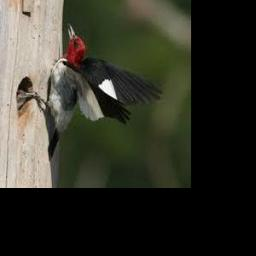Woodpecker: (18, 24, 161, 160)
